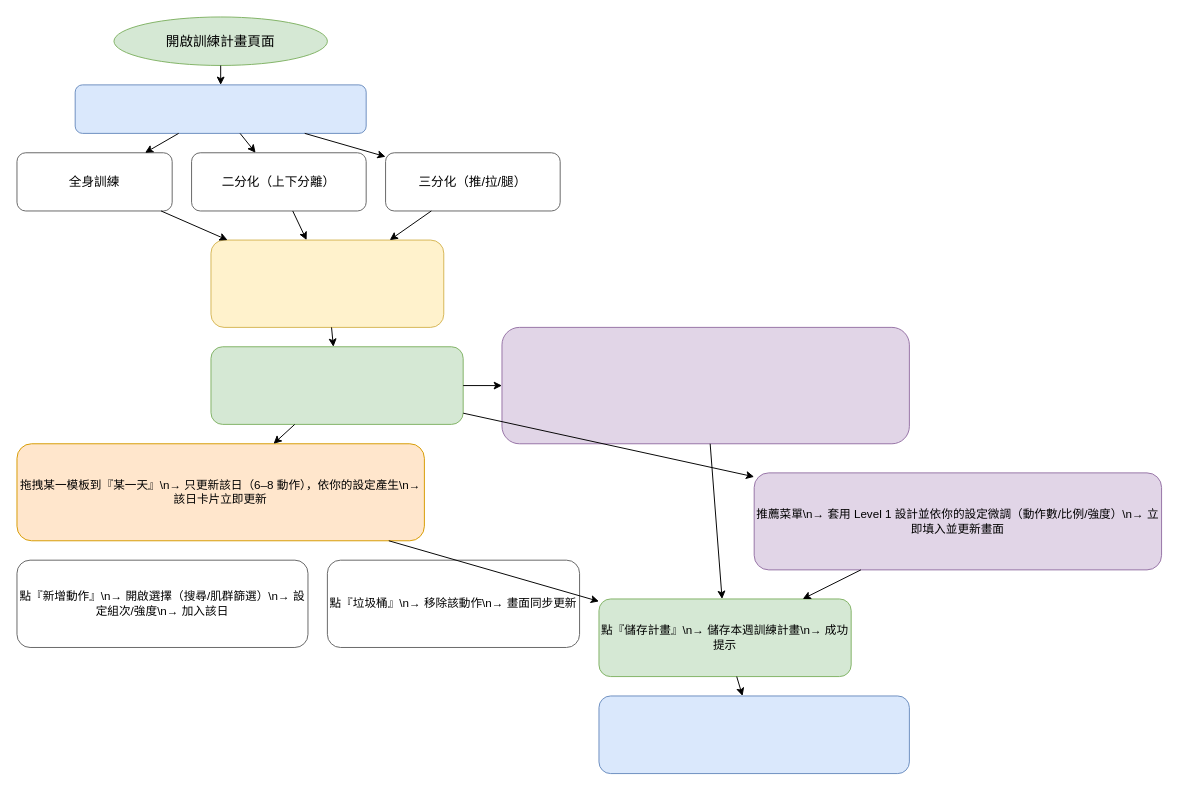
This 1179x791 diagram has some shape labels left out. The shapes that lost their labels are listed below. From the top down, each one's box as (x1, y1, x2, y2) in pixels, then its label:
(74, 84, 366, 133): 看到三個訓練分化選項
(210, 239, 444, 327): 選擇模式：\n• 推薦菜單\n• 隨機菜單
(210, 346, 463, 424): 套用你的設定\n（每日動作數、肌群比例、強度/組次）
(501, 326, 909, 444): 隨機菜單\n→ 依設定產生本週每日 6–8 個動作\n→ 上半身含上/中/下胸與上/中背；下半身含股四/股二/臀/核心\n→ 畫面即時更新
(598, 695, 909, 774): 點『上週/下週』\n→ 切換週區間\n→ 載入該週計畫並更新畫面
